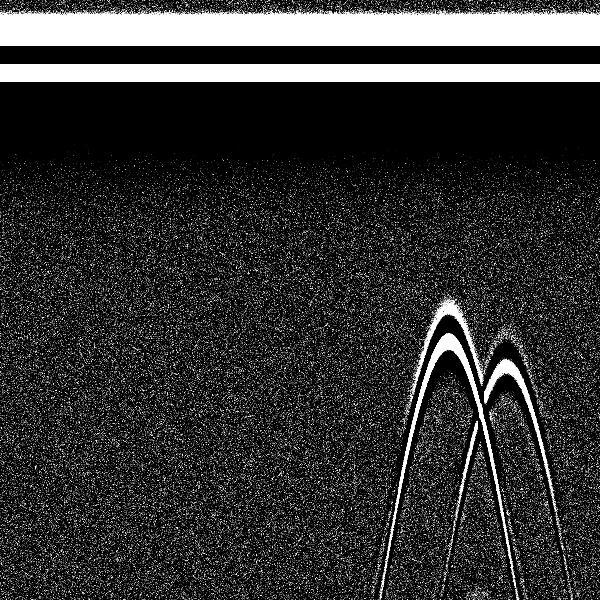pipe: (464, 6, 551, 430), (408, 6, 489, 400)
